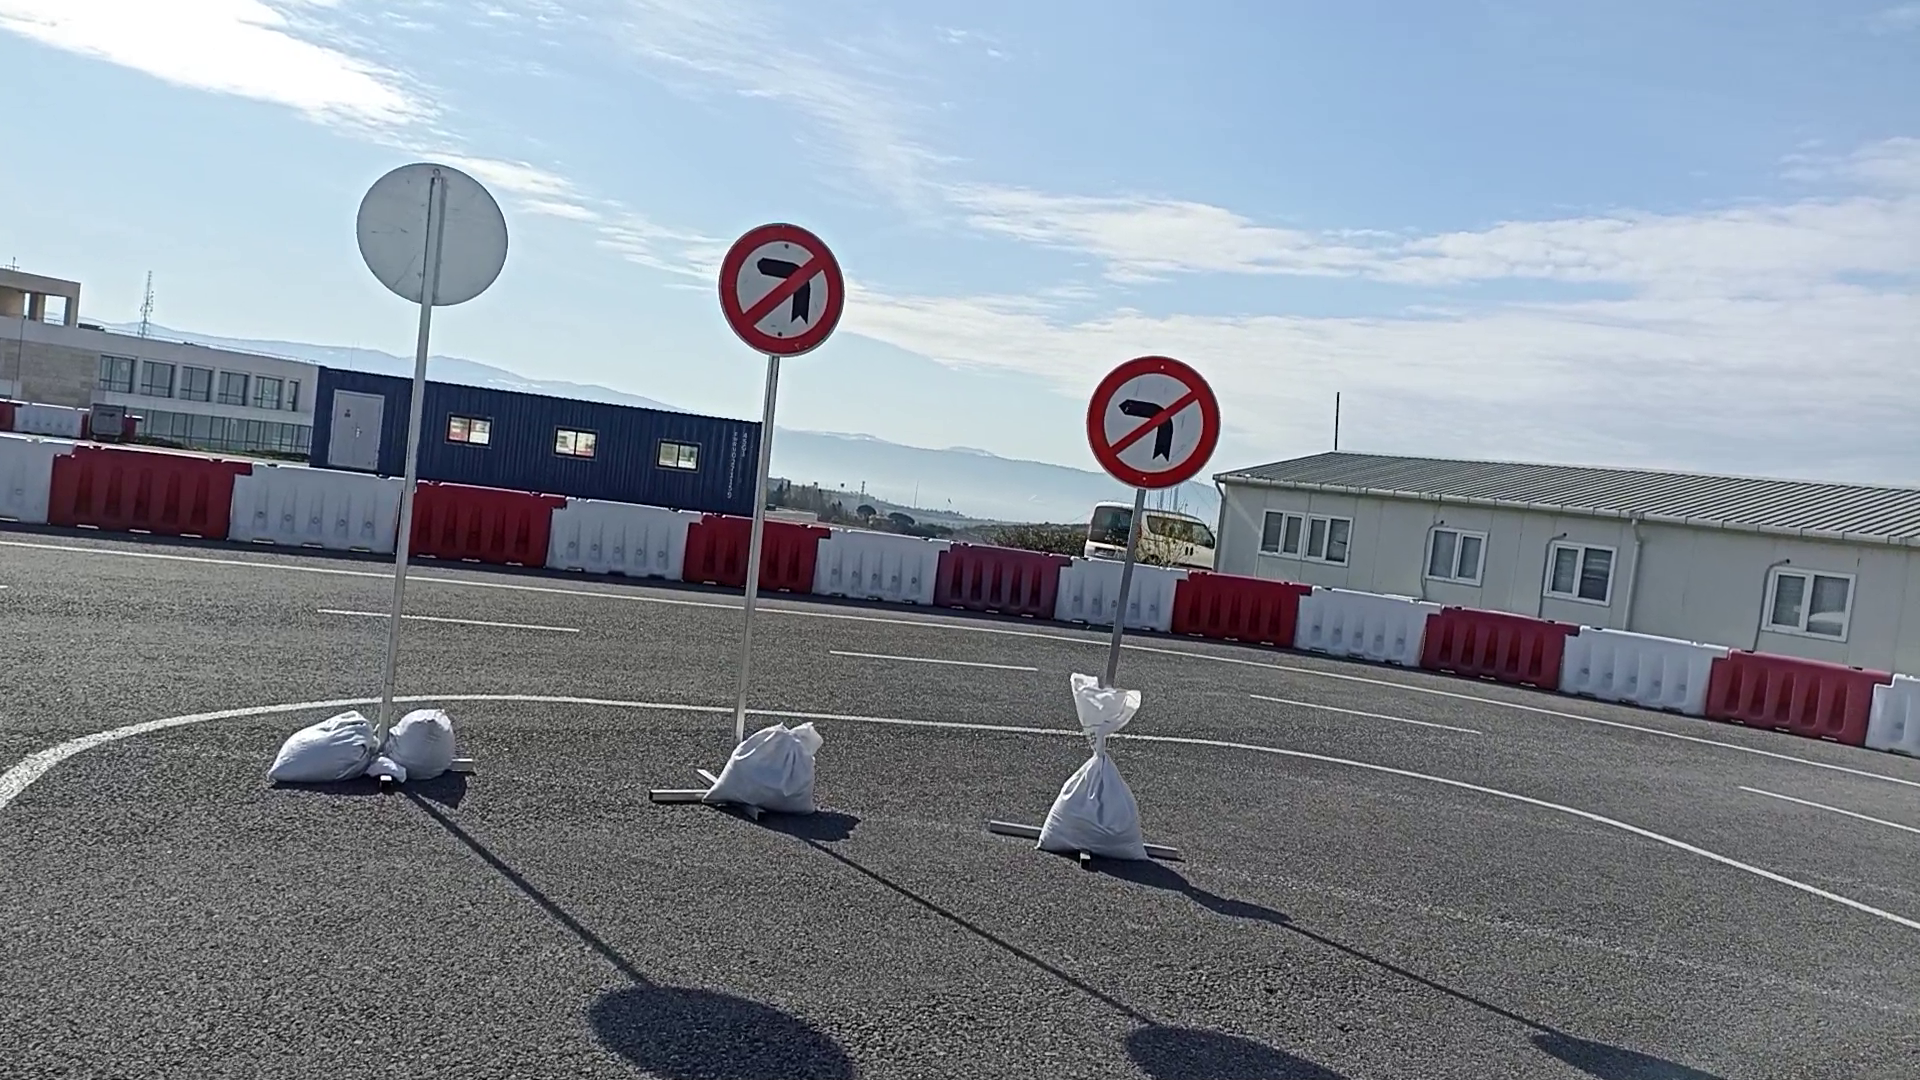noleft: (1085, 353, 1222, 493), (715, 222, 849, 359)
